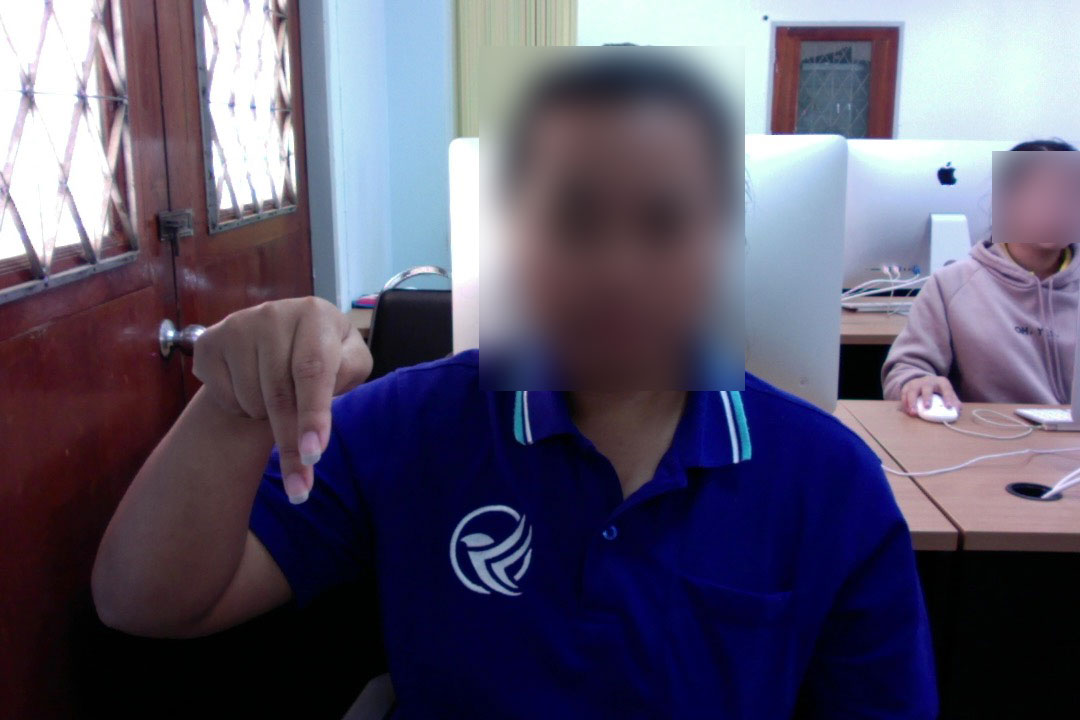por: (186, 283, 382, 511)
